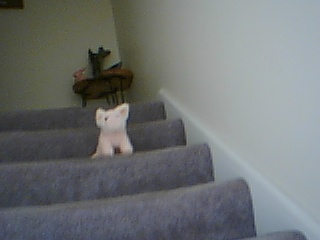piggy: (90, 101, 135, 160)
